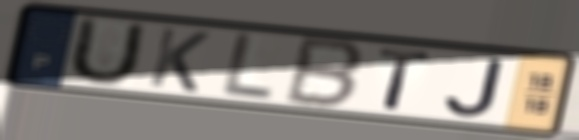B: (280, 34, 370, 112)
J: (442, 55, 510, 120)
K: (145, 25, 214, 96)
L: (218, 30, 277, 104)
T: (375, 46, 434, 113)
U: (63, 15, 150, 89)
